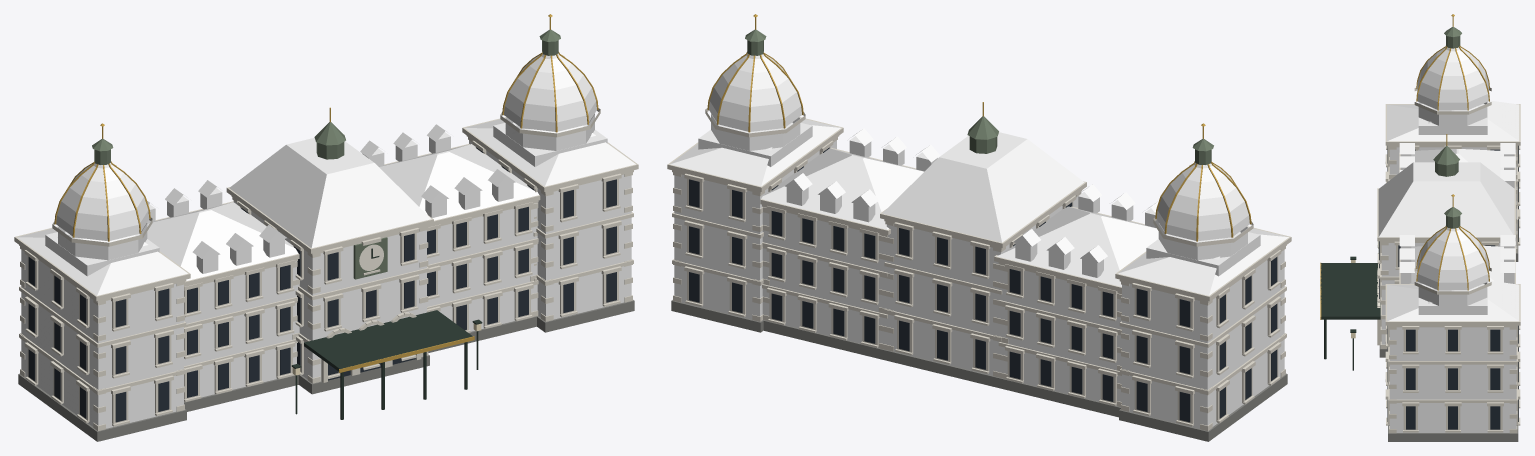
File: station.glb
3 views of the same model, side by side, from view 1: azimuth 30°, elevation 25°; view 2: azimuth 150°, elevation 25°; view 3: azimuth 270°, elevation 25° (orthographic). The views are drawn at different scales.
Parts seen in each view (by area): view 1: stn_d_granite.001; view 2: stn_d_granite.001; view 3: stn_d_granite.001.
Part boxes in pixels (x1=…): stn_d_granite.001: x1=14, y1=14, x2=638, y2=441; stn_d_granite.001: x1=667, y1=14, x2=1291, y2=441; stn_d_granite.001: x1=1320, y1=14, x2=1520, y2=441.
Size of the model in its own units: 56.9 by 27.96 by 22.1.
